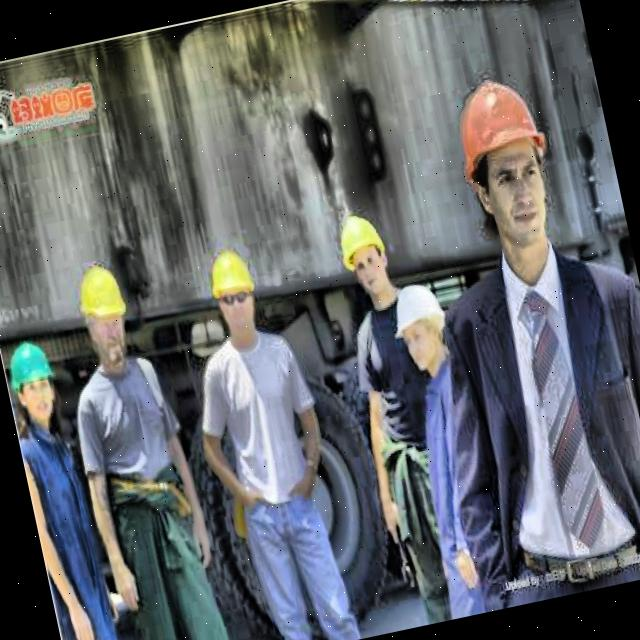helmet: (434, 50, 576, 281), (64, 244, 147, 385), (196, 228, 274, 354), (327, 200, 402, 313), (0, 329, 71, 434), (386, 276, 458, 379)
